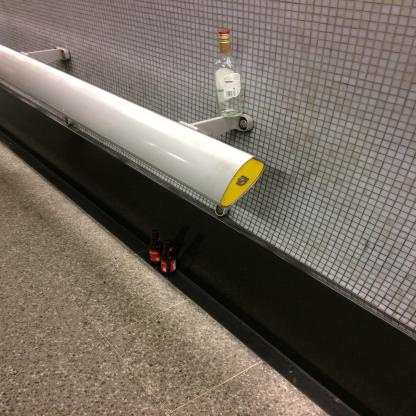Glass bottle: (213, 30, 243, 117), (160, 239, 176, 275), (149, 229, 164, 264)
